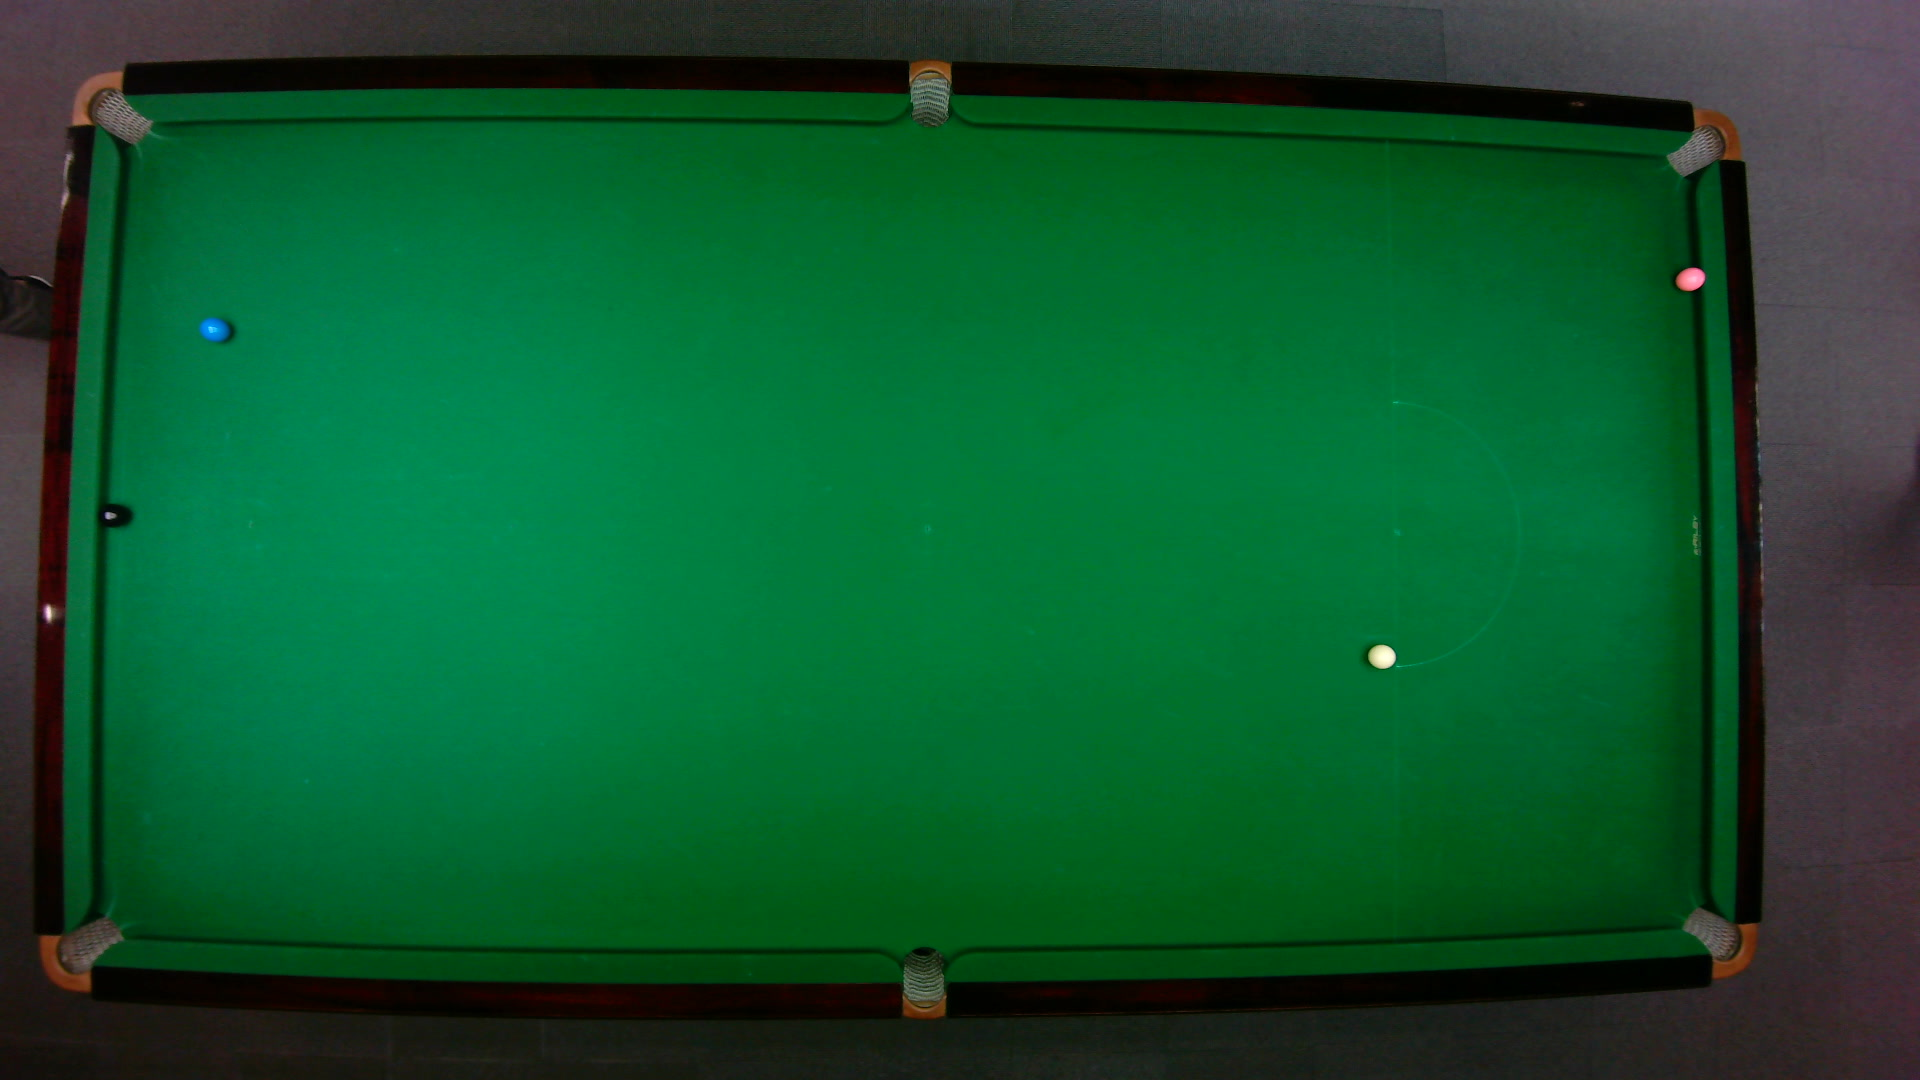bag: (37, 914, 125, 993), (69, 69, 152, 145), (1677, 905, 1756, 978), (1663, 107, 1741, 177), (901, 944, 944, 1021), (909, 57, 949, 128)
black: (96, 502, 127, 527)
blue: (196, 314, 231, 342)
pink: (1673, 264, 1706, 291)
white: (1365, 642, 1396, 669)
zone: (1390, 400, 1519, 669)
